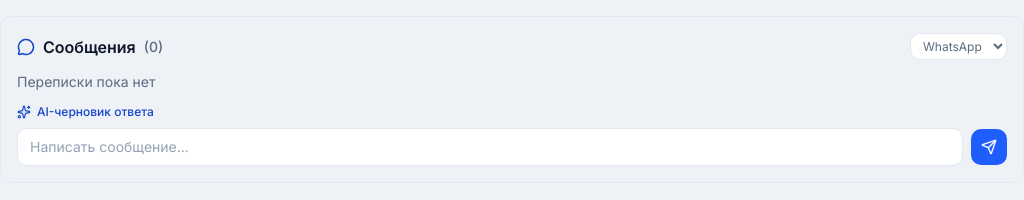
Test: DealMessages (омниканальный инбокс) › AI-черновик подставляется в поле ввода
Expected: the text "Переписки пока нет" is shown, [17, 73, 156, 90]
Click the button "AI-черновик ответа" at (85, 112), box [17, 104, 154, 120]
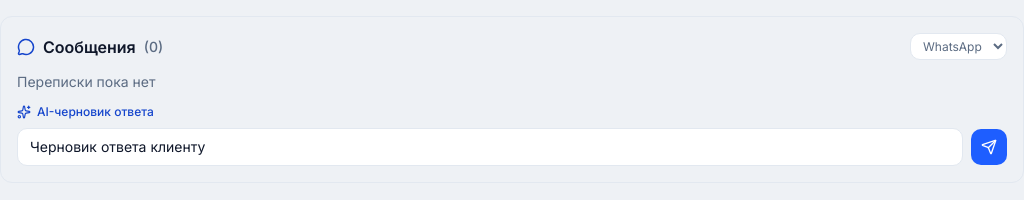
Expected: the field with placeholder "Написать сообщение..." holds "Черновик ответа клиенту", [17, 128, 963, 166]
